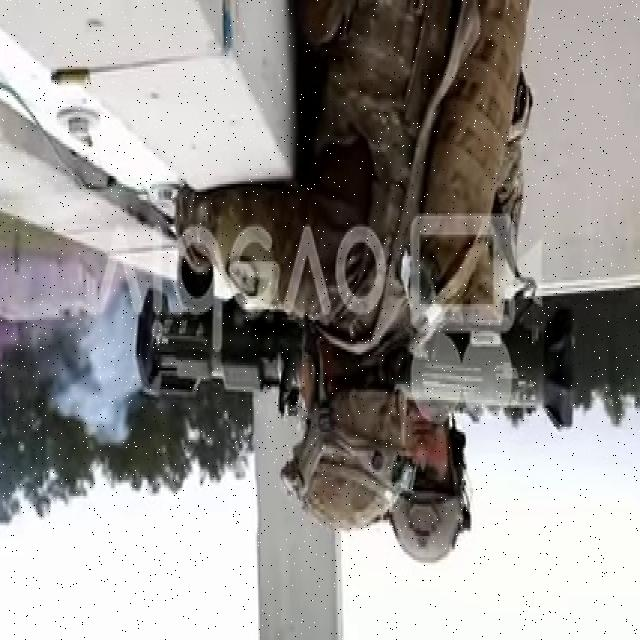bazooka: (136, 285, 583, 432)
